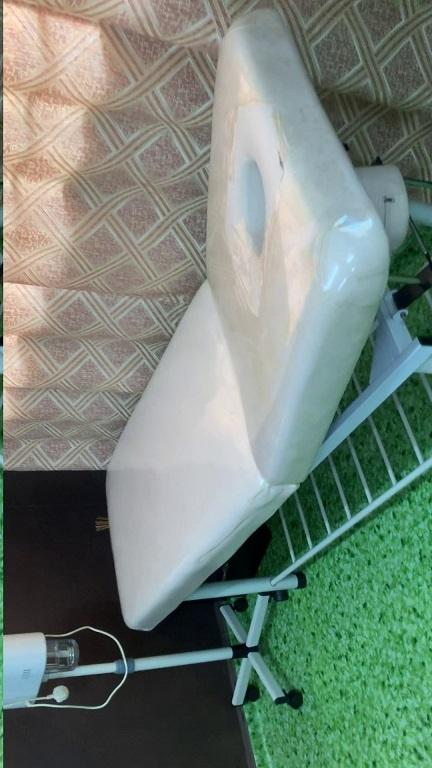bed: (100, 11, 413, 767)
